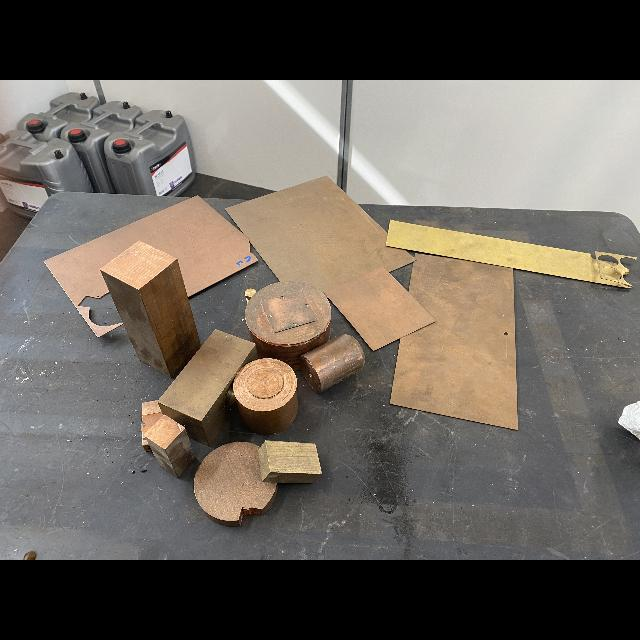Brass: (390, 254, 517, 430), (226, 176, 414, 292), (386, 220, 631, 288), (101, 241, 201, 377), (159, 330, 257, 446), (245, 283, 331, 368), (259, 440, 322, 483)
Copper: (44, 197, 257, 338), (325, 267, 435, 351), (233, 358, 298, 435), (300, 334, 364, 392), (144, 415, 195, 478), (141, 401, 162, 451)
